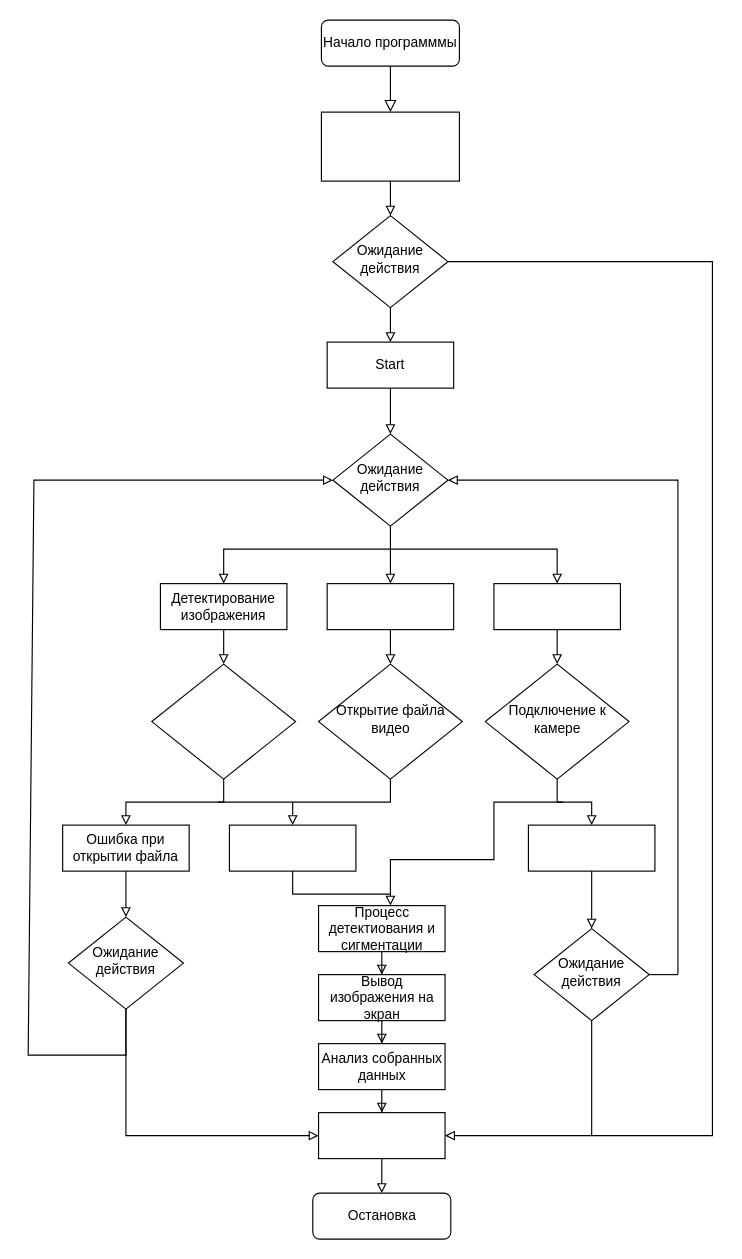
Some shapes in this 742 by 1259 pixel diagram are drawn without their labels. The centre of each missing label's shape, as x and y in pixels:
Детектирование видео: the point at 390,606
Детектирование камеры: the point at 556,606
Закрыть окно приложения: the point at 381,1135
Открытие файла изображения: the point at 223,721
Ошибка при подключении: the point at 591,847
Предпросмотр файла: the point at 292,847
Создание окна приложения и его элементов: the point at 389,146
